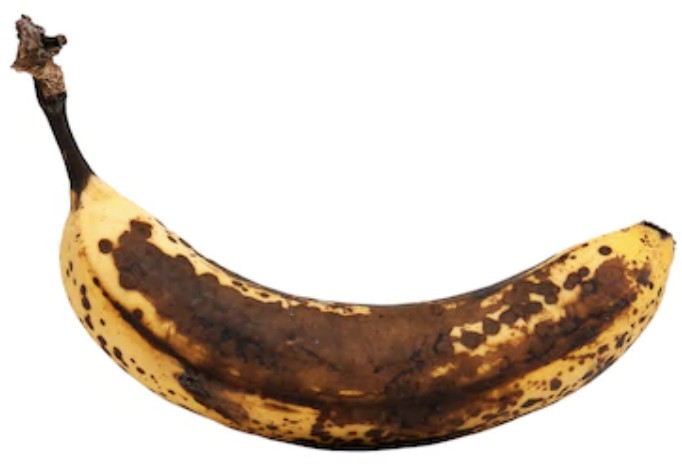rotten_banana: (9, 14, 675, 452)
